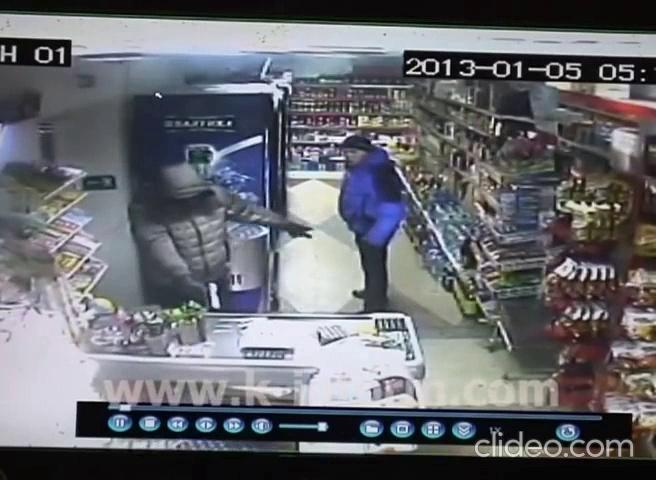person: (128, 161, 314, 311), (336, 133, 407, 311)
pistol: (203, 279, 223, 312)
